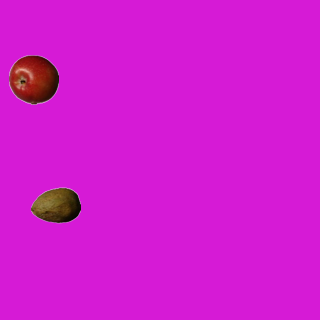Apple Braeburn: (8, 54, 58, 104)
Papaya: (30, 180, 80, 230)
